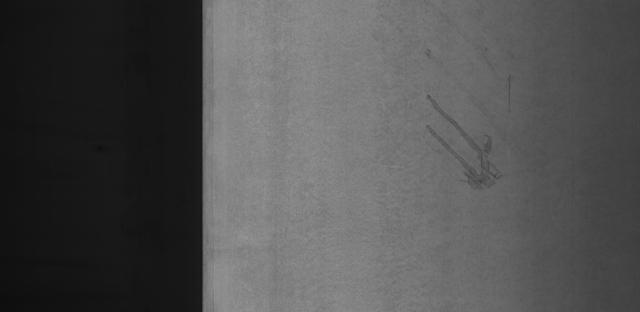water_spot: (415, 79, 520, 196)
